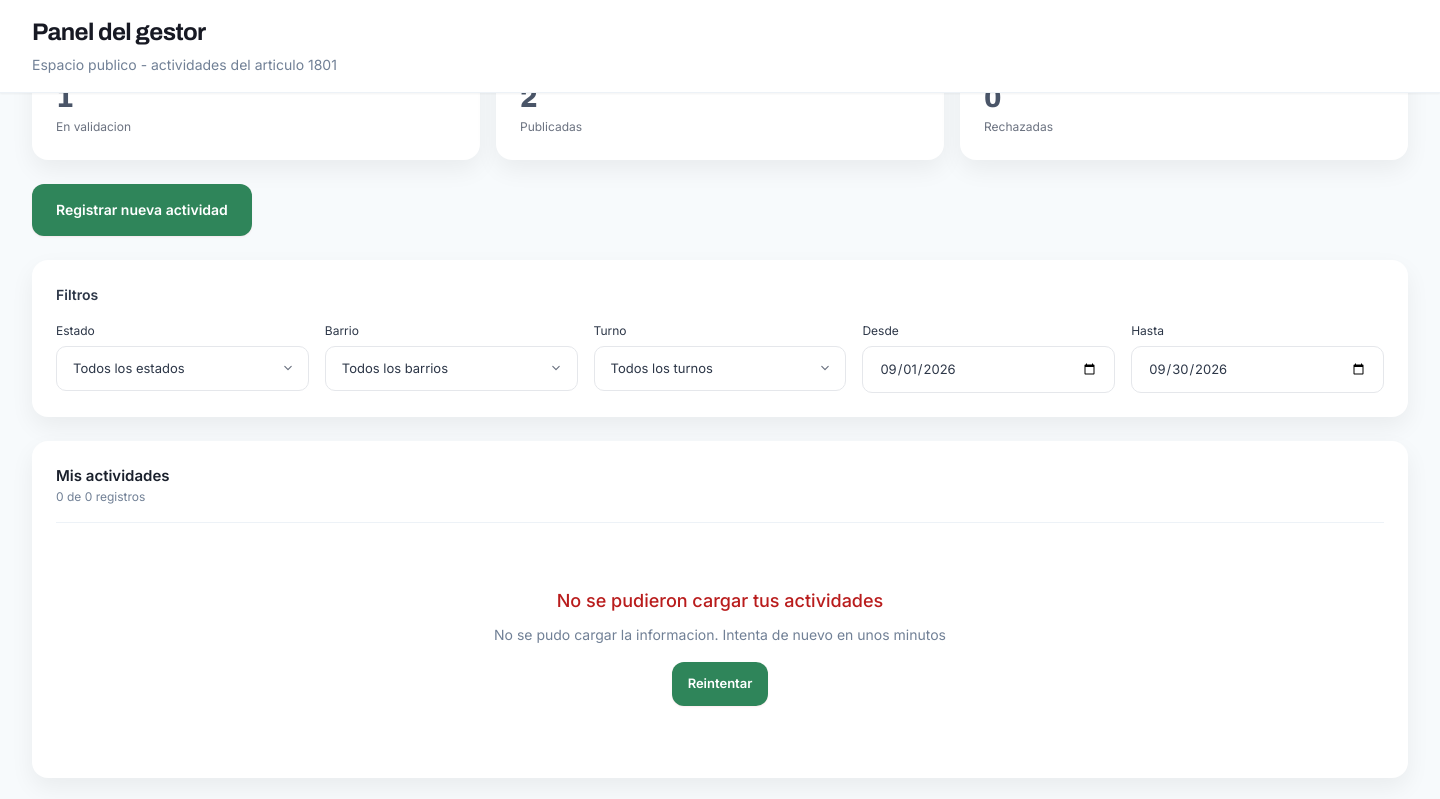
Test: GestorDashboard › reintentar vuelve a pedir las actividades
(page scrolled)
Expected: the message is shown, left=494, top=590, right=946, bottom=706
Click the button "Reintentar".
click(720, 684)  # box left=672, top=662, right=768, bottom=706
(page scrolled)
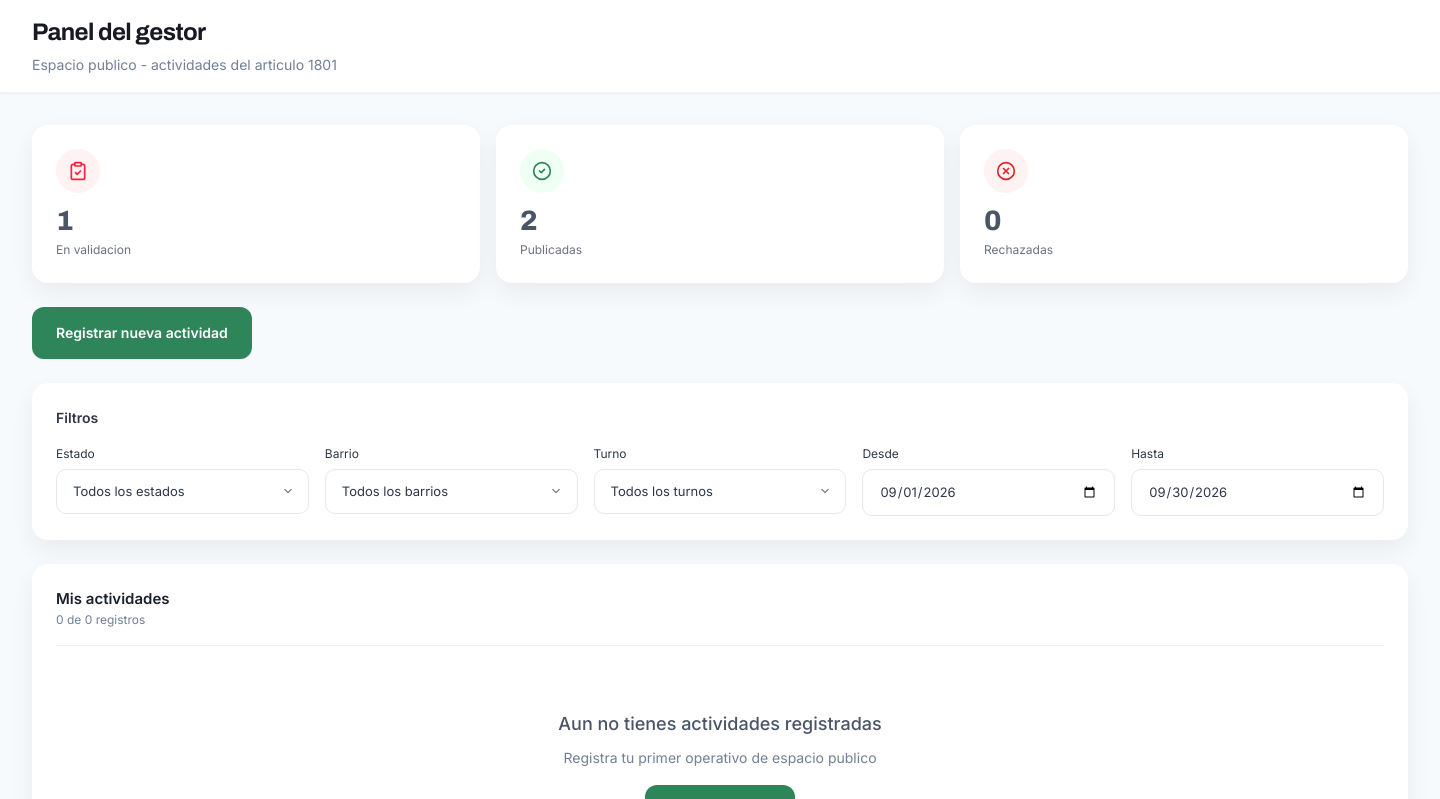
Expected: the message "No se pudieron cargar tus actividades No se pudo cargar la informacion. Intenta" is gone
Expected: the text "Aun no tienes actividades registradas" is shown, left=558, top=713, right=882, bottom=734
